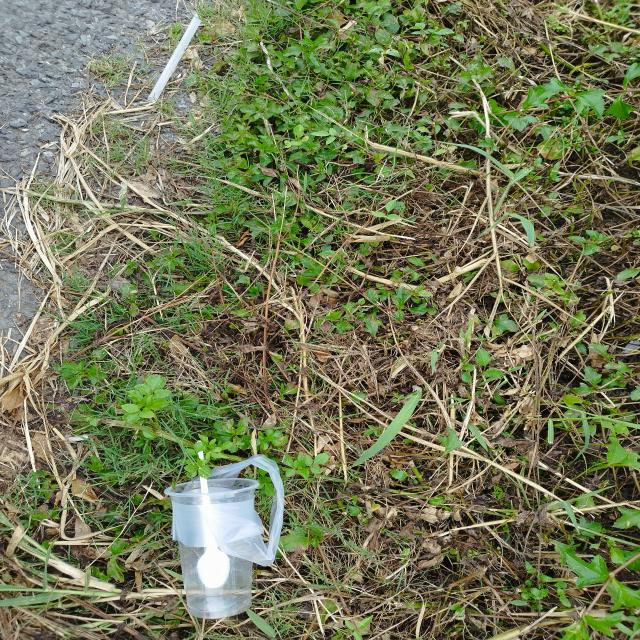drinking straw: (148, 11, 202, 100)
plastic glass: (168, 478, 259, 616)
plastic utensil: (197, 440, 230, 590)
